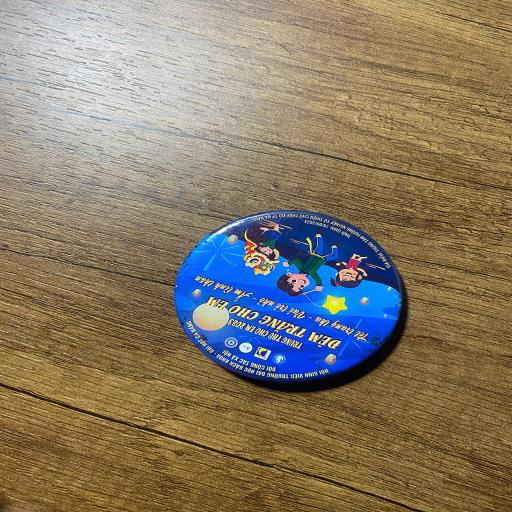HH: (169, 207, 402, 383)
